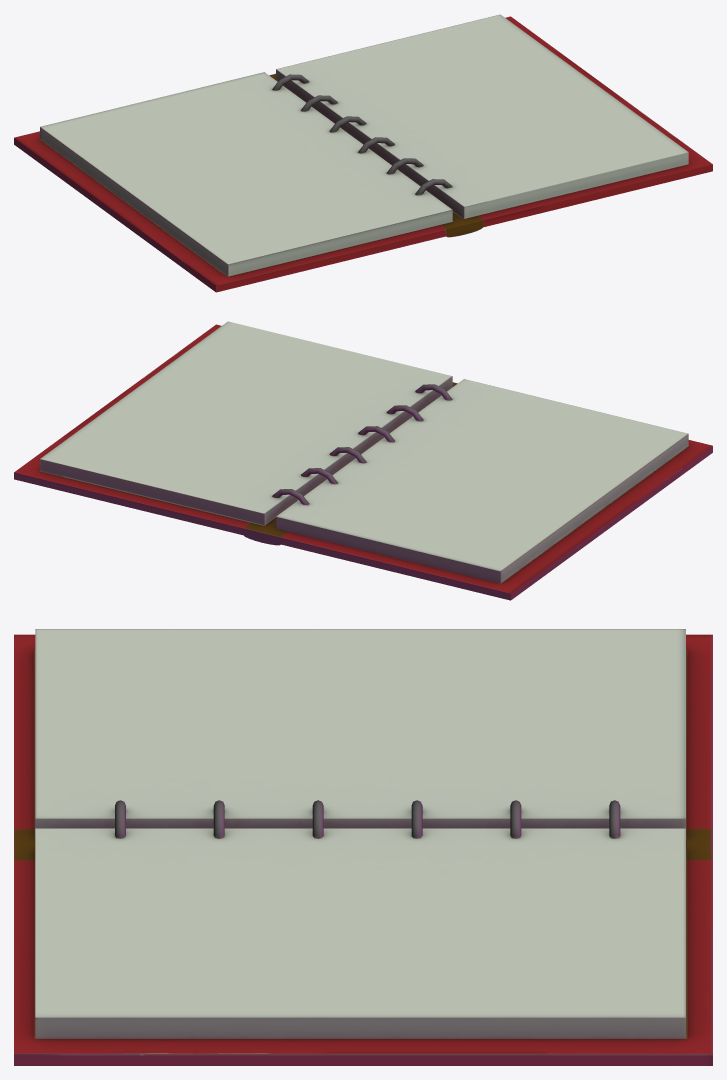
File: Contact List Book.fbx
3 renders of one model, top to bottom at view 1: azimuth 30°, elevation 25°; view 2: azimuth 150°, elevation 25°; view 3: azimuth 270°, elevation 25°, orthographic. The views are drawn at different scales.
Visible parts, largest first — view 1: Contact List Book; view 2: Contact List Book; view 3: Contact List Book.
Part boxes in pixels (left/top/right/bottom): Contact List Book: left=14, top=14, right=712, bottom=292; Contact List Book: left=14, top=321, right=712, bottom=600; Contact List Book: left=14, top=629, right=712, bottom=1065.
Size of the model in its own units: 21 by 1.34 by 14.8.
